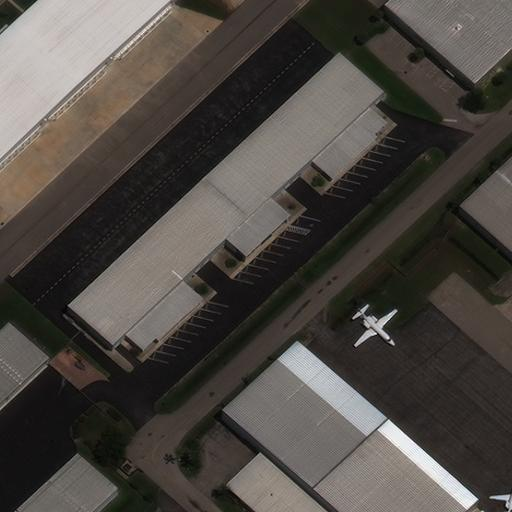Medium Civil Transport: (356, 309, 397, 347)
Small Civil Transport: (490, 482, 512, 511)
